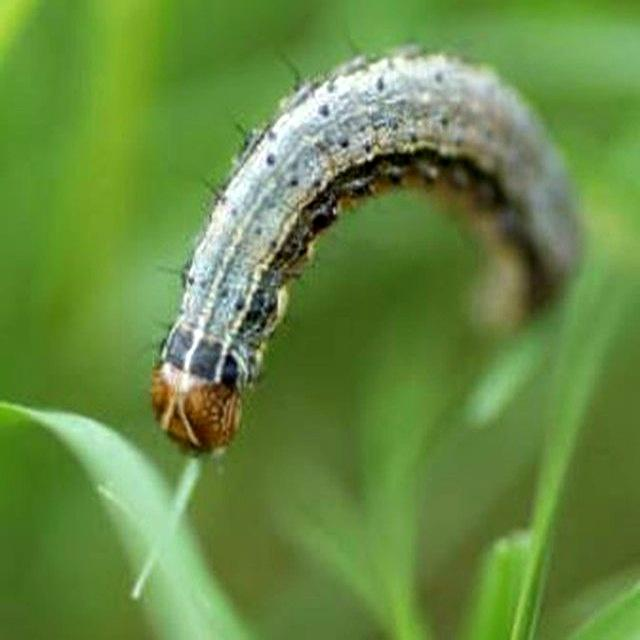gusano_cogollero: (148, 38, 592, 459)
